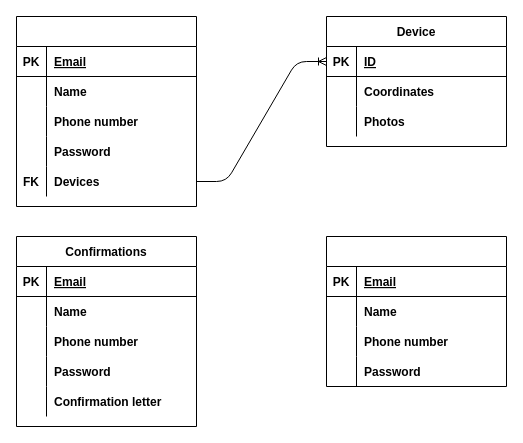
Image size: 523x443. Some labels were removed from this diagram. The shapes that lost their labels are listed below. From the top down, each one's box as (x1, y1, x2, y2) in pixels, then its label:
(16, 16, 196, 206): User
(326, 236, 506, 386): Admins
